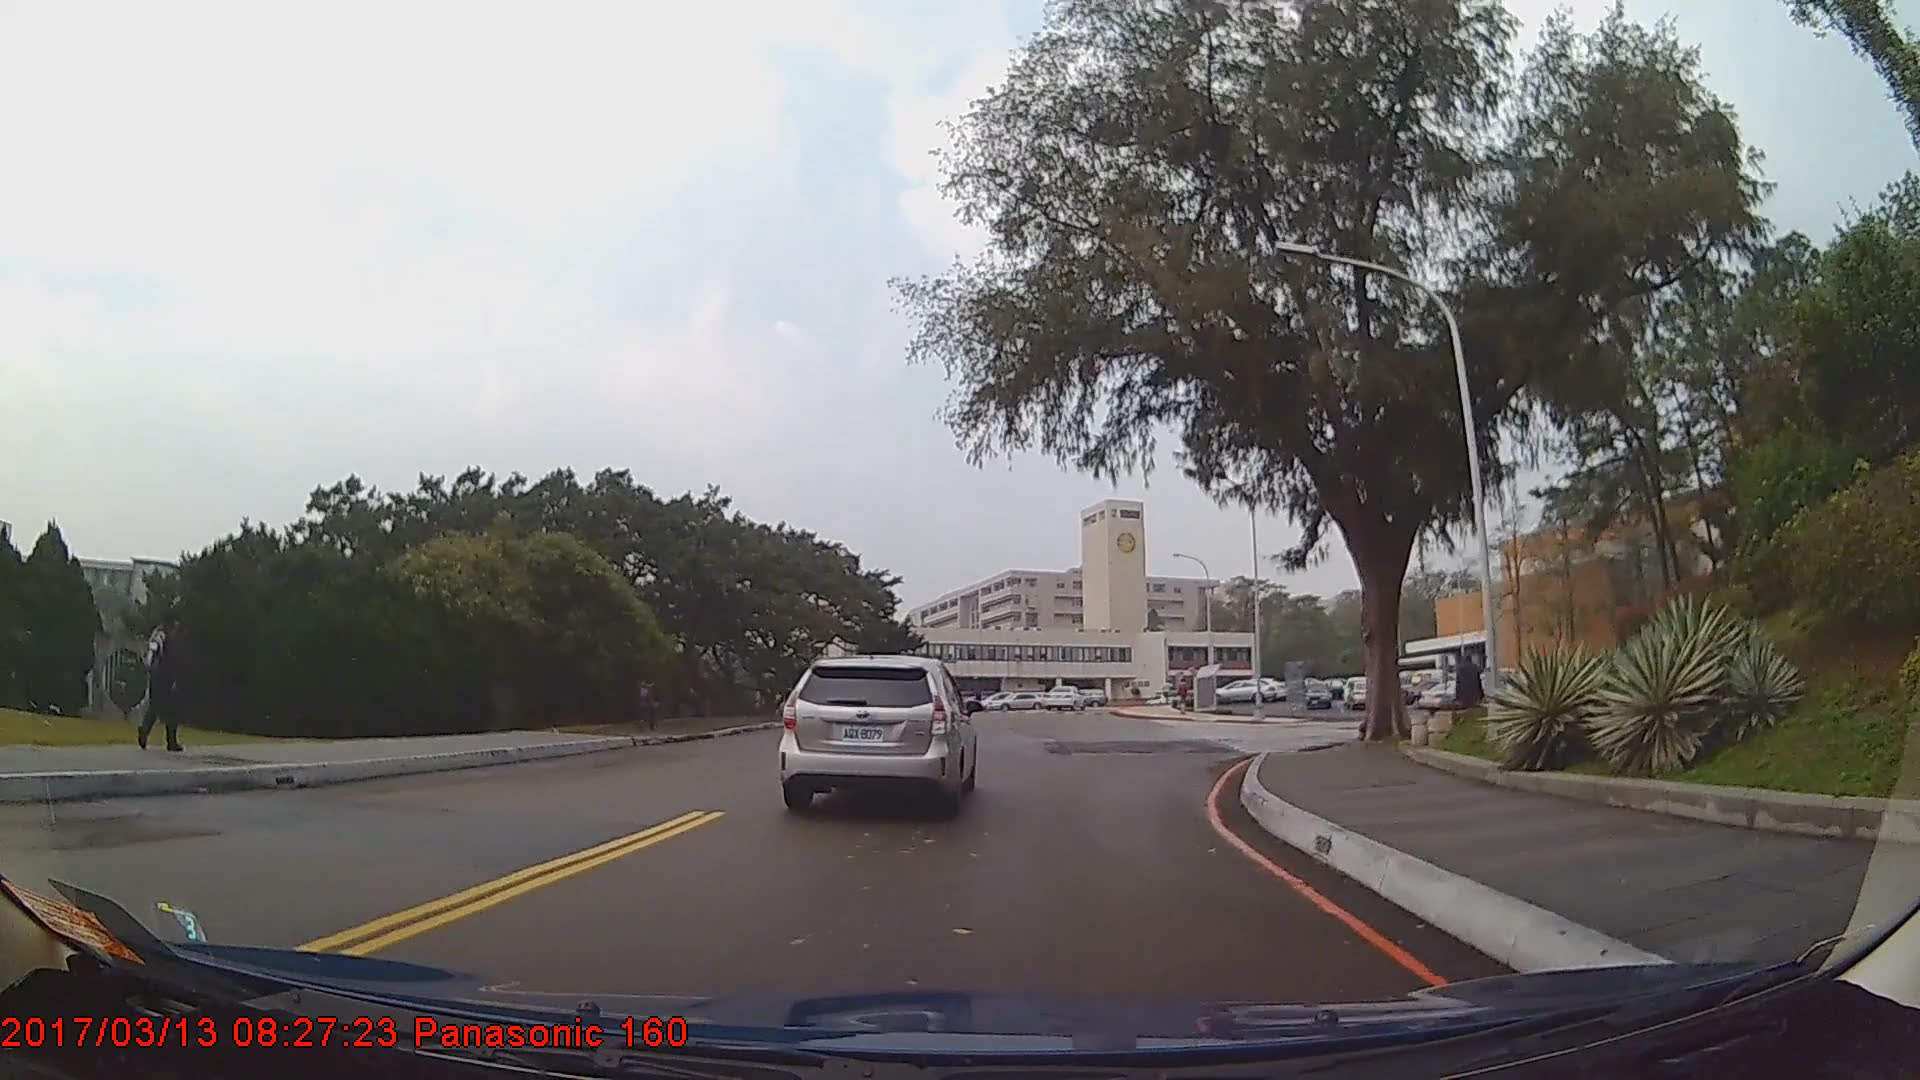pedestrian: (135, 605, 190, 748), (1454, 644, 1490, 751)
vehicle: (780, 651, 976, 812), (1417, 679, 1485, 711), (1214, 676, 1278, 705), (983, 689, 1048, 713), (1039, 684, 1086, 711), (1346, 679, 1375, 709), (1303, 683, 1331, 712)
